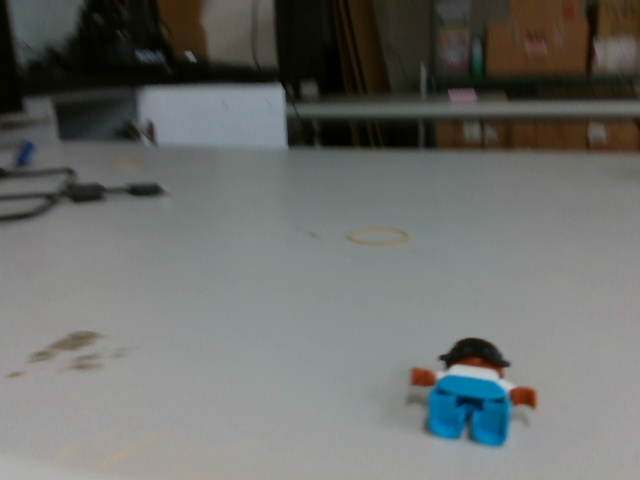people: (408, 332, 542, 447)
